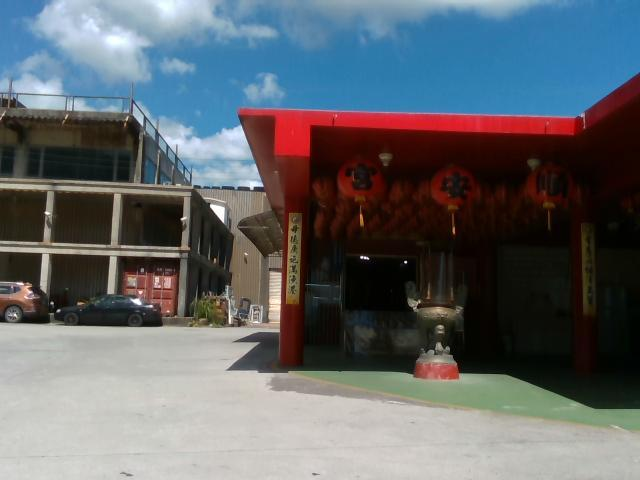pollute: (206, 284, 267, 327)
